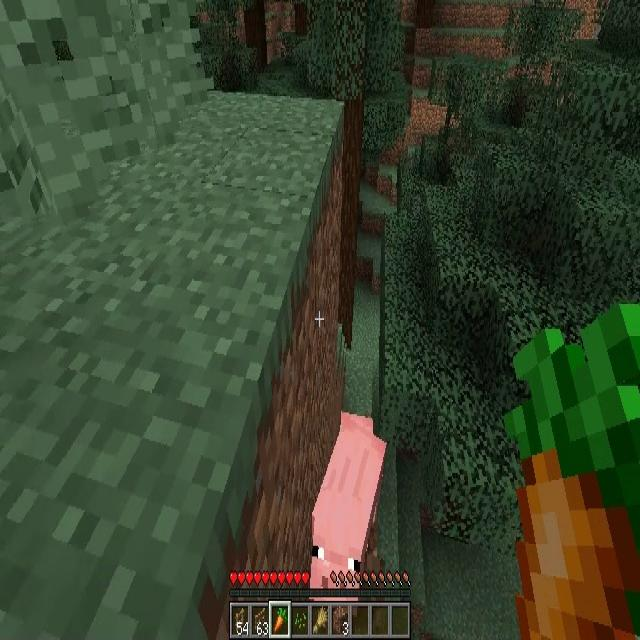pig: (311, 414, 387, 584)
